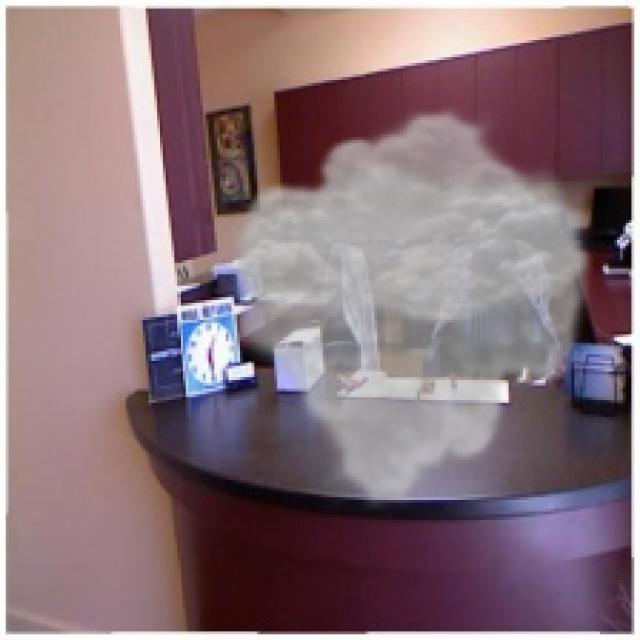smoke: (223, 106, 600, 511)
